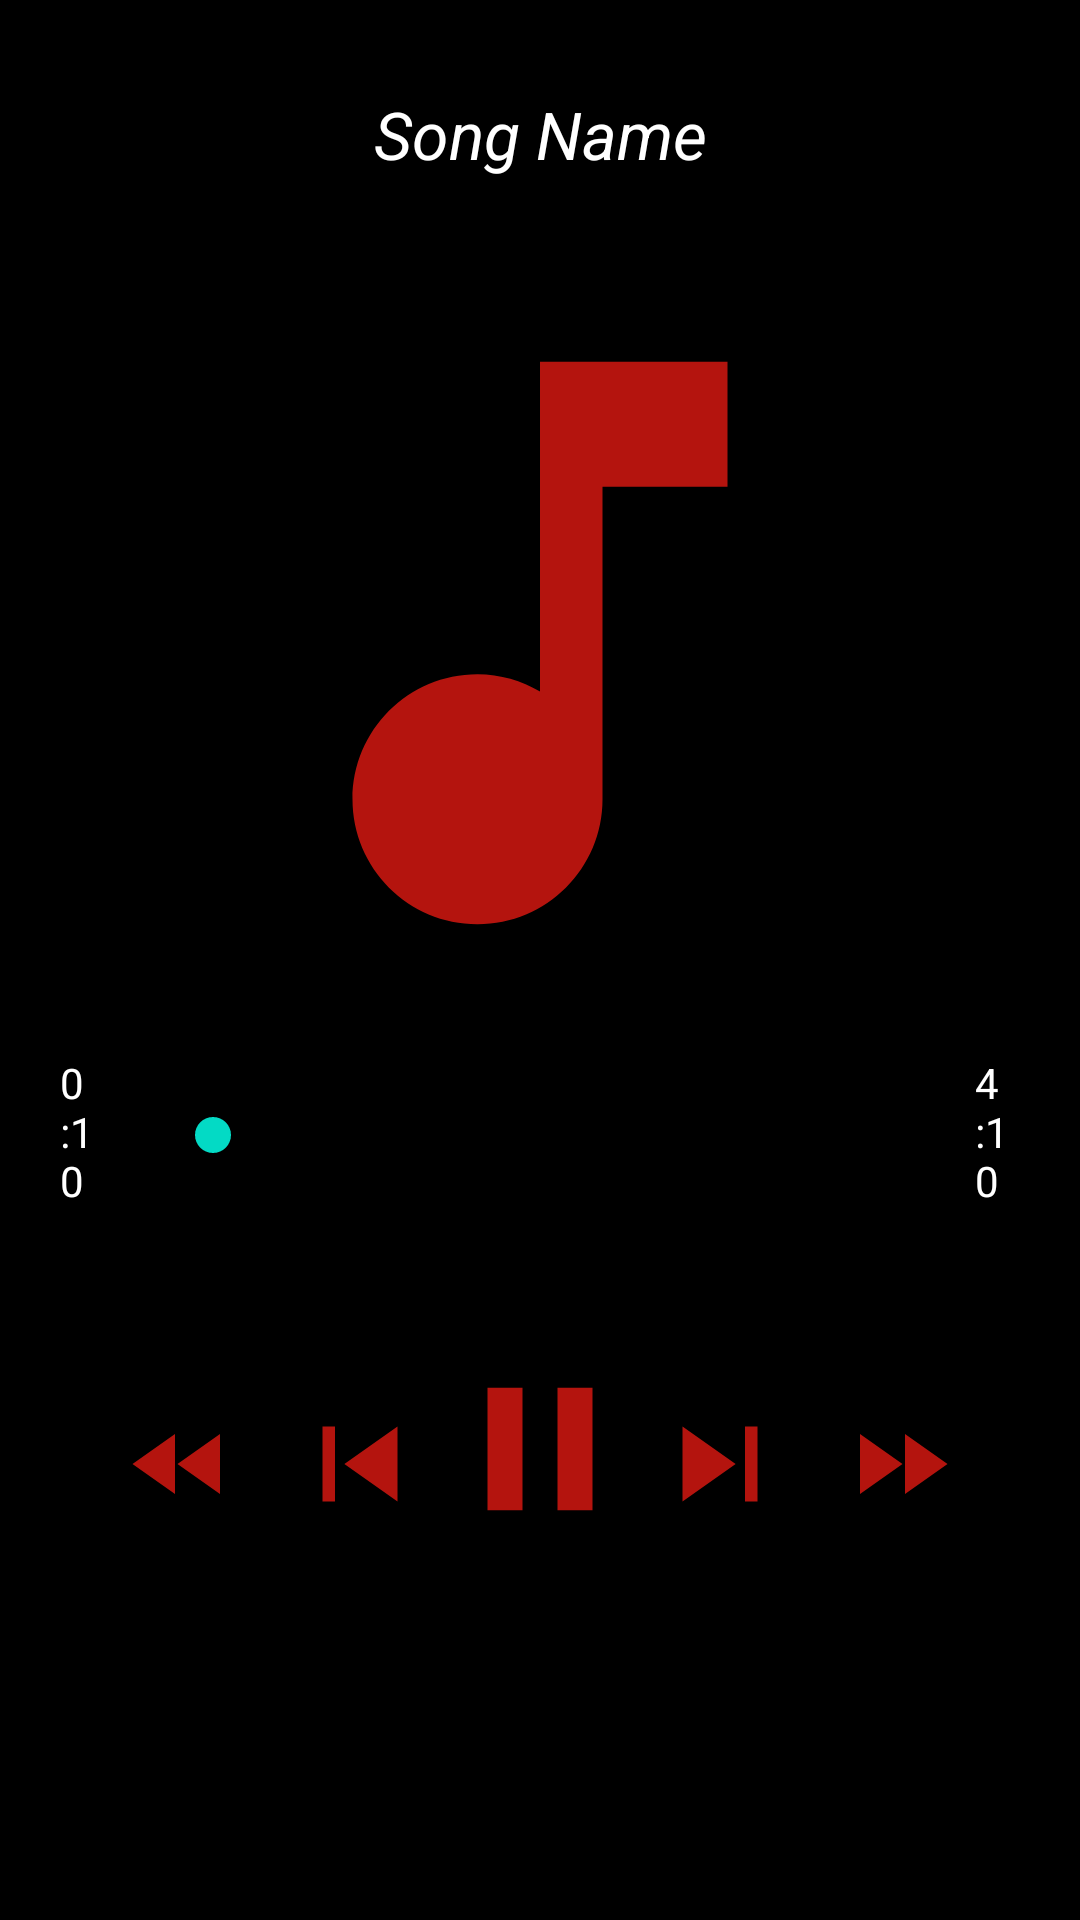

Icons on this 1080w x 1920h Android screen, each with its box as bbox(x1, y1, x2, y2):
fast forward: bbox(860, 1434, 947, 1494)
fast rewind: bbox(133, 1434, 220, 1494)
next: bbox(682, 1426, 758, 1502)
pause: bbox(487, 1387, 593, 1511)
prev: bbox(322, 1426, 398, 1502)
